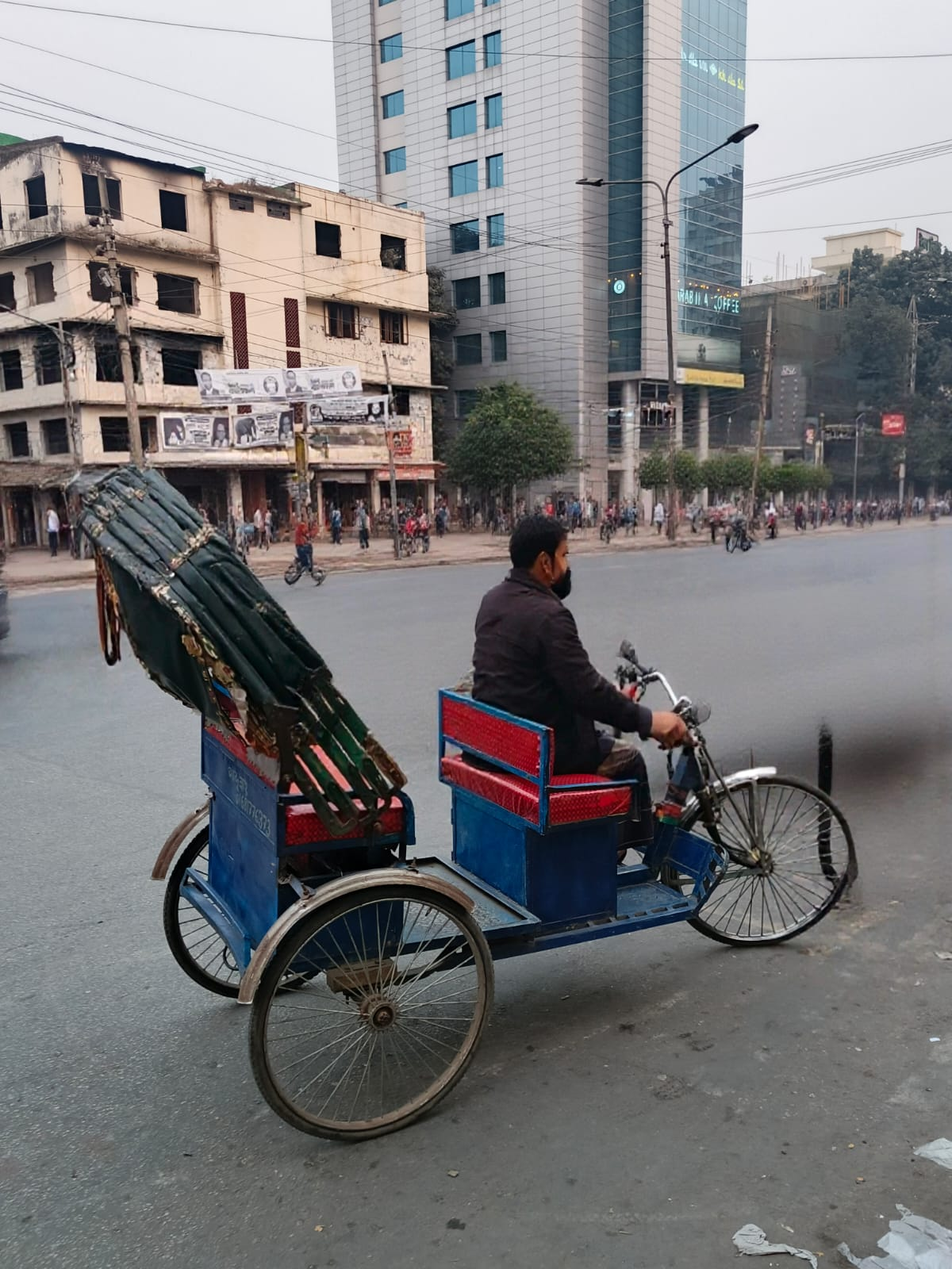auto-ricksaw: (50, 439, 882, 1170)
